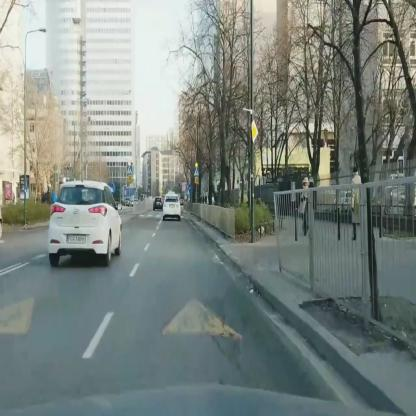cars: (49, 178, 122, 268), (163, 194, 181, 223), (153, 197, 163, 212)
